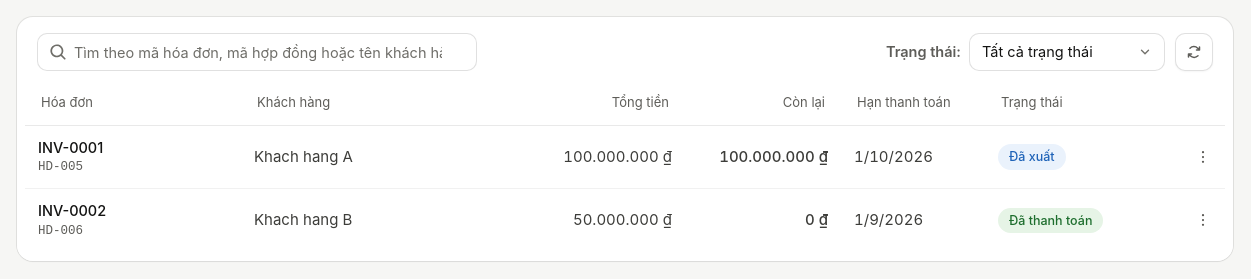
InvoiceListPage (NCL-10-CN-003 — Ghi nhận thanh toán của khách hàng) › tìm kiếm theo mã hóa đơn/khách hàng chỉ còn dòng khớp
Expected: the table with test id "invoice-table" is shown, [25,81,1225,252]
Type "Khach hang B" into the field named "Tìm kiếm hóa đơn".
click(257, 52); type("Khach hang B")  # box [37,33,477,71]
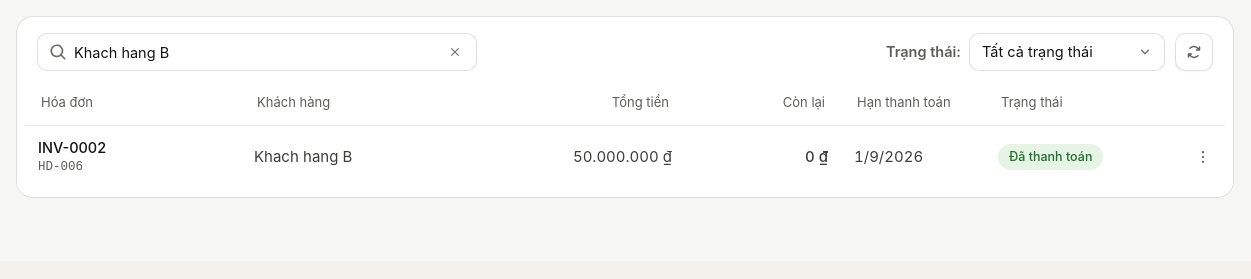
Expected: the text "INV-0002" is shown, [38,138,106,156]
Result: the text "INV-0001" is gone
